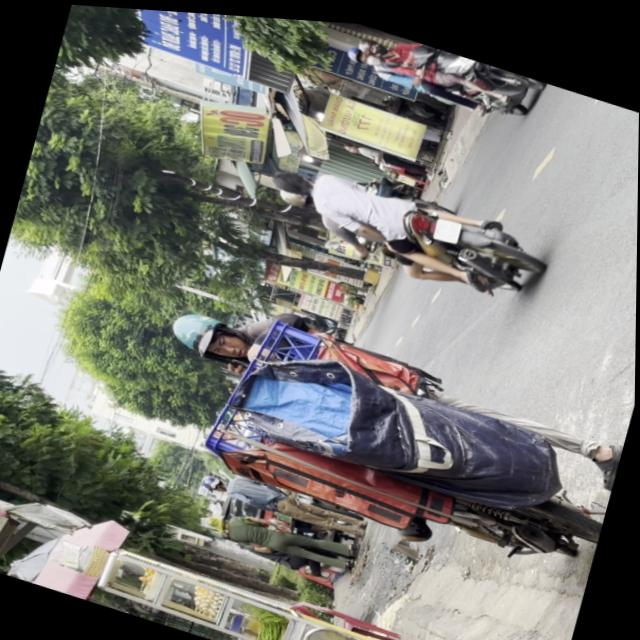helmet: (271, 180, 315, 208), (343, 39, 377, 61), (354, 30, 387, 52)
licenseplate: (253, 140, 553, 307), (339, 18, 543, 121)
motorcyclist: (268, 160, 314, 195)
nohelmet: (431, 209, 461, 239)
